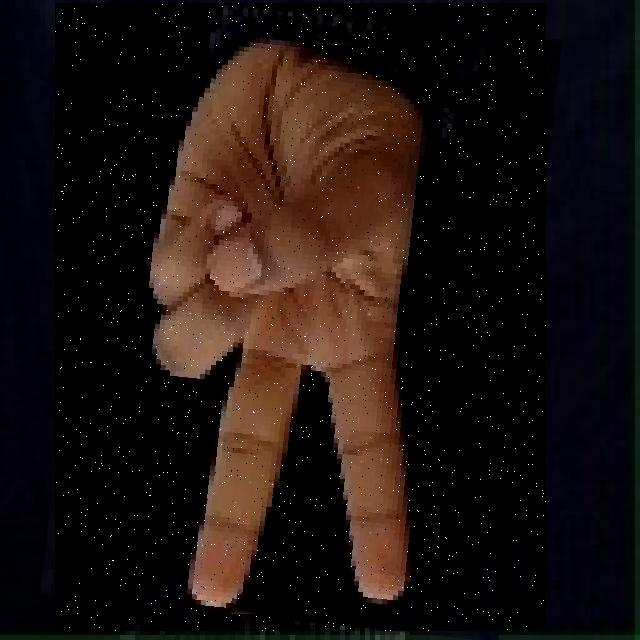No: (55, 3, 546, 631)
